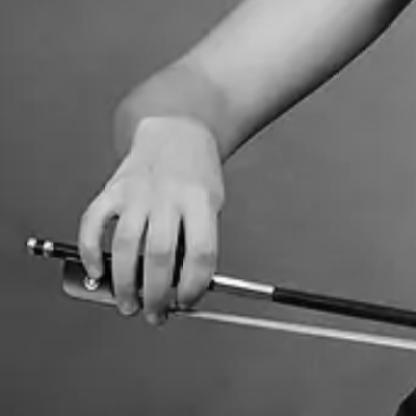good: (66, 129, 240, 332)
